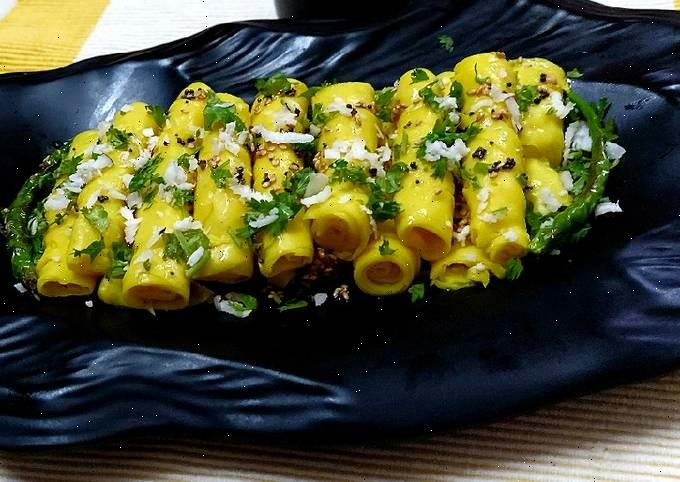khandvi: (42, 88, 600, 286)
